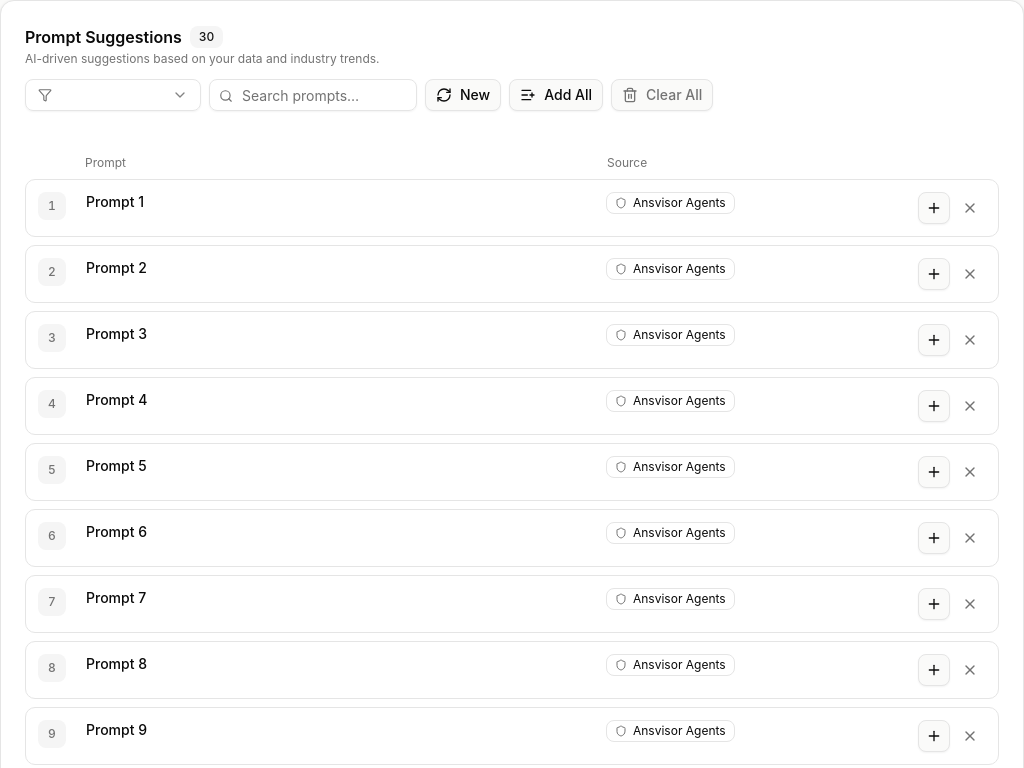
Test: SuggestionsCard — Add All › sends more than 25 in batches
Click the button "Add All" at (556,95), box [509,79,603,111]
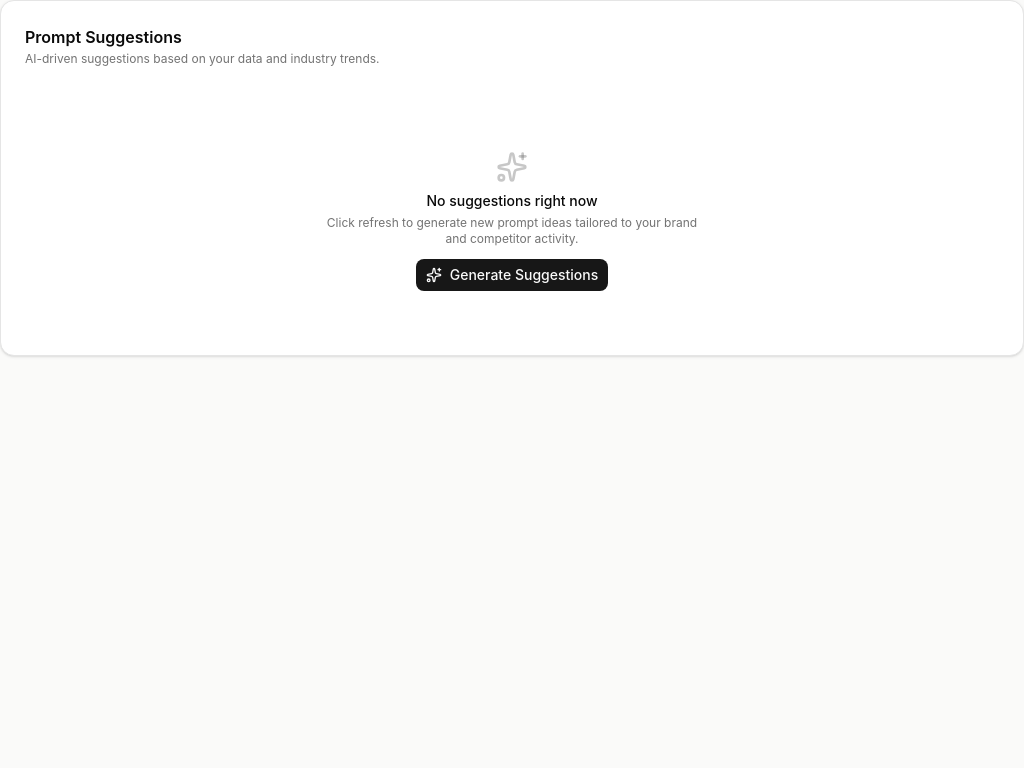
Now no list items are shown
